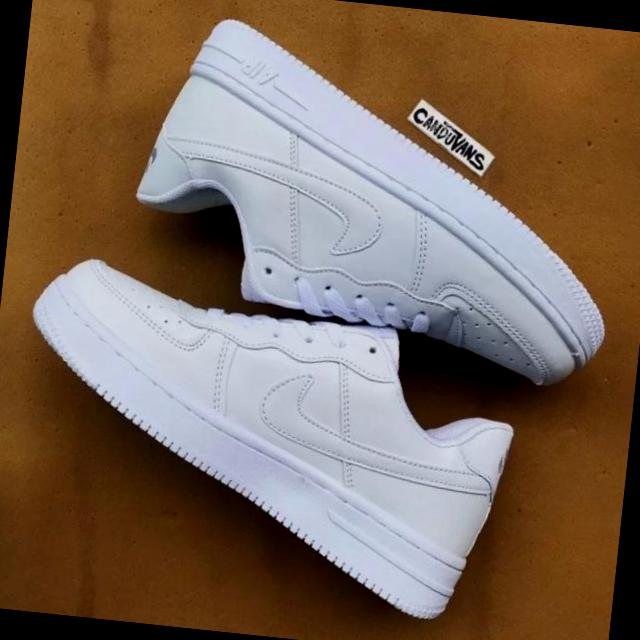nike_fake_airforce: (5, 250, 529, 634), (117, 7, 634, 394)
